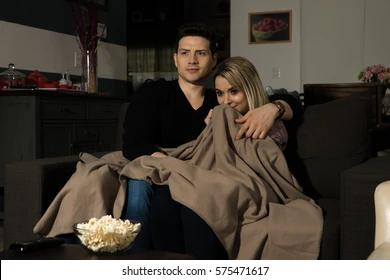blanket: (31, 103, 324, 261)
long sleeve shirt: (120, 78, 305, 160)
trousers: (123, 177, 172, 247)
